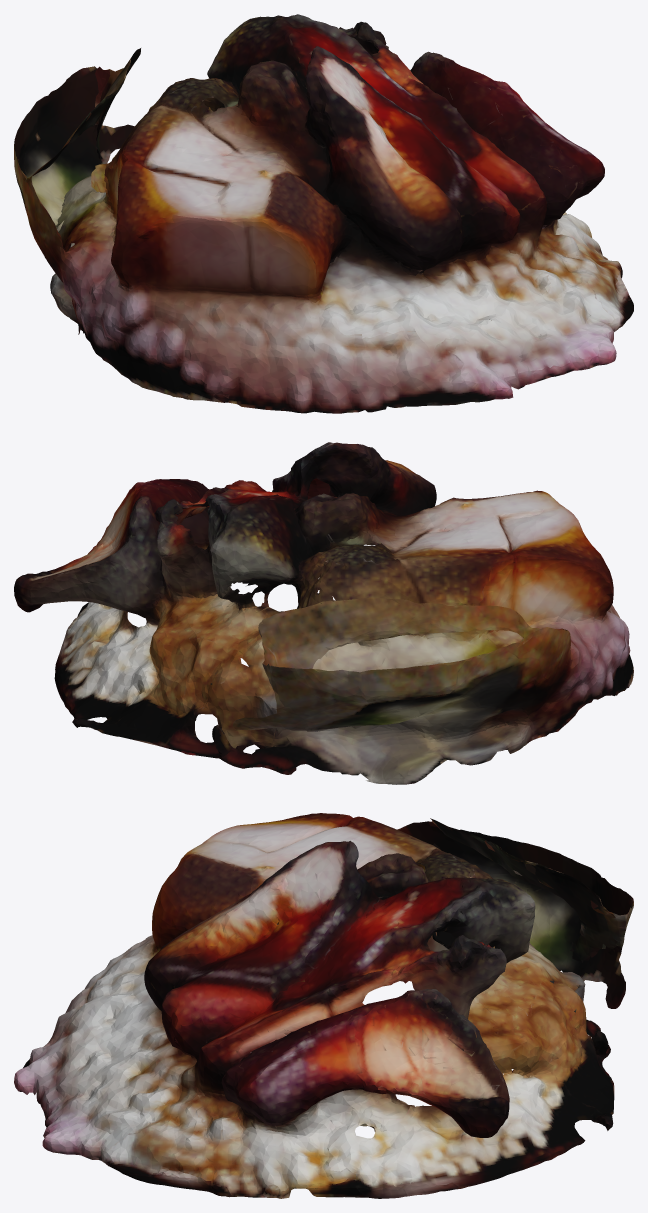
The model's file is charsiew.fbx.
3 renders of one model, top to bottom at view 1: azimuth 30°, elevation 25°; view 2: azimuth 150°, elevation 25°; view 3: azimuth 270°, elevation 25°, orthographic.
Visible parts, largest first — view 1: world; view 2: world; view 3: world.
Part boxes in pixels (x1,y1,x2,y2): world: [14, 14, 633, 413]; world: [14, 442, 633, 784]; world: [14, 813, 633, 1198].
Size of the model in its own units: 70.18 by 32.09 by 75.01.
